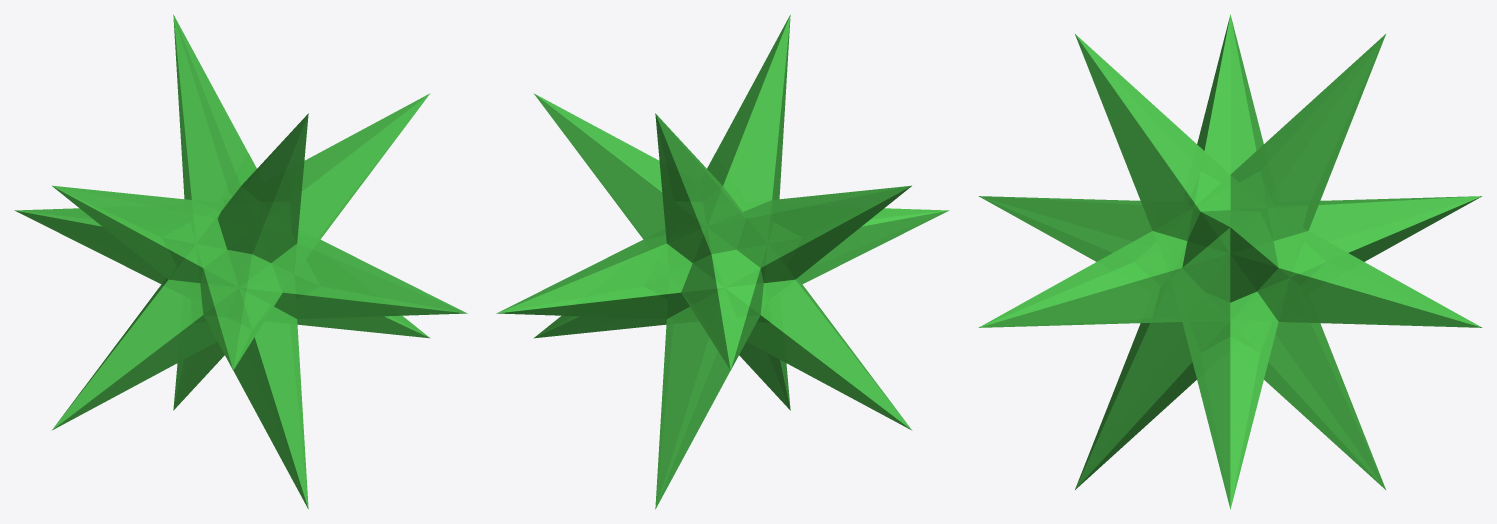
Rendered from MedialTriambicIcosahedron.obj.
3 renders of one model, left to right at view 1: azimuth 30°, elevation 25°; view 2: azimuth 150°, elevation 25°; view 3: azimuth 270°, elevation 25°, orthographic. The views are drawn at different scales.
Size of the model in its own units: 5.24 by 5.24 by 5.24.
